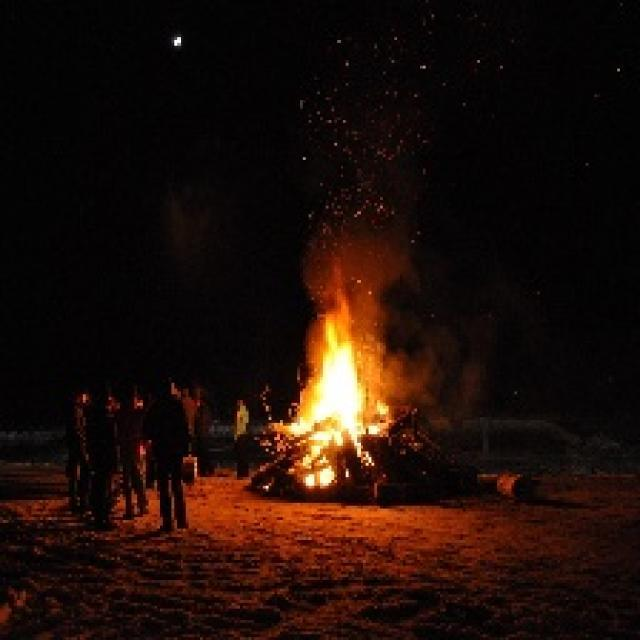Fire: (299, 329, 377, 432)
